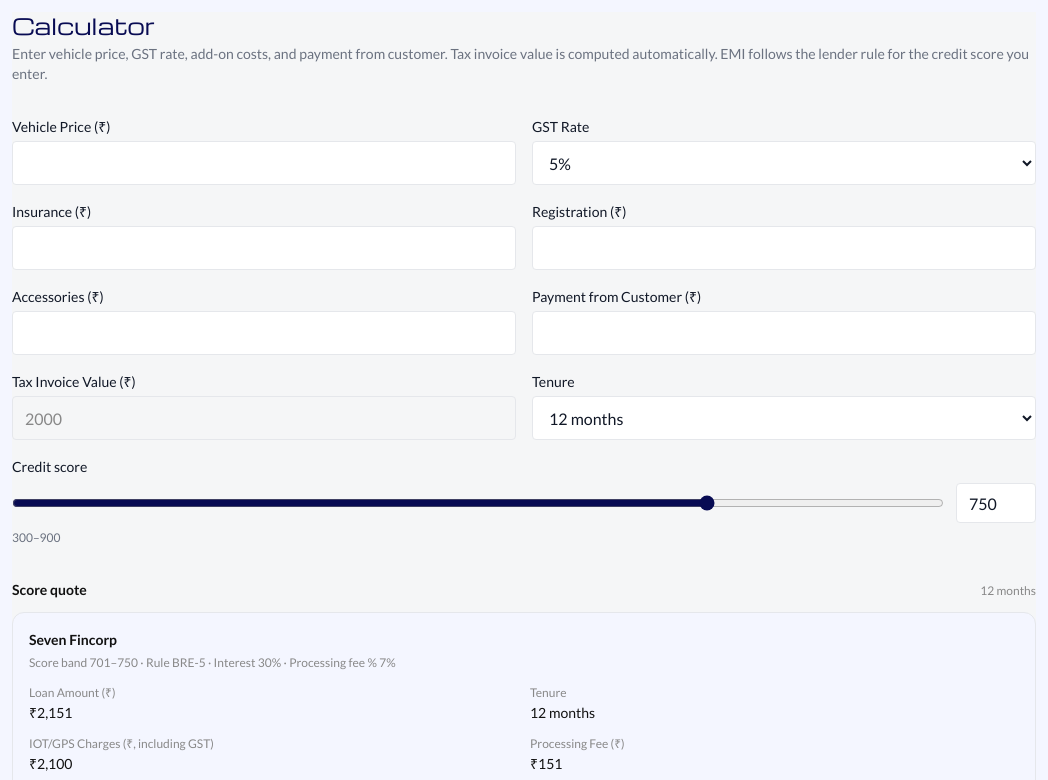
Test case: EmiRangeCalculator › warns when customer payment is below 10% of tax invoice value
Type "100000" into the field with test id "emi-range-vehicle-price".
click(264, 163); type("100000")  # box top-left (12, 141), bottom-right (516, 185)
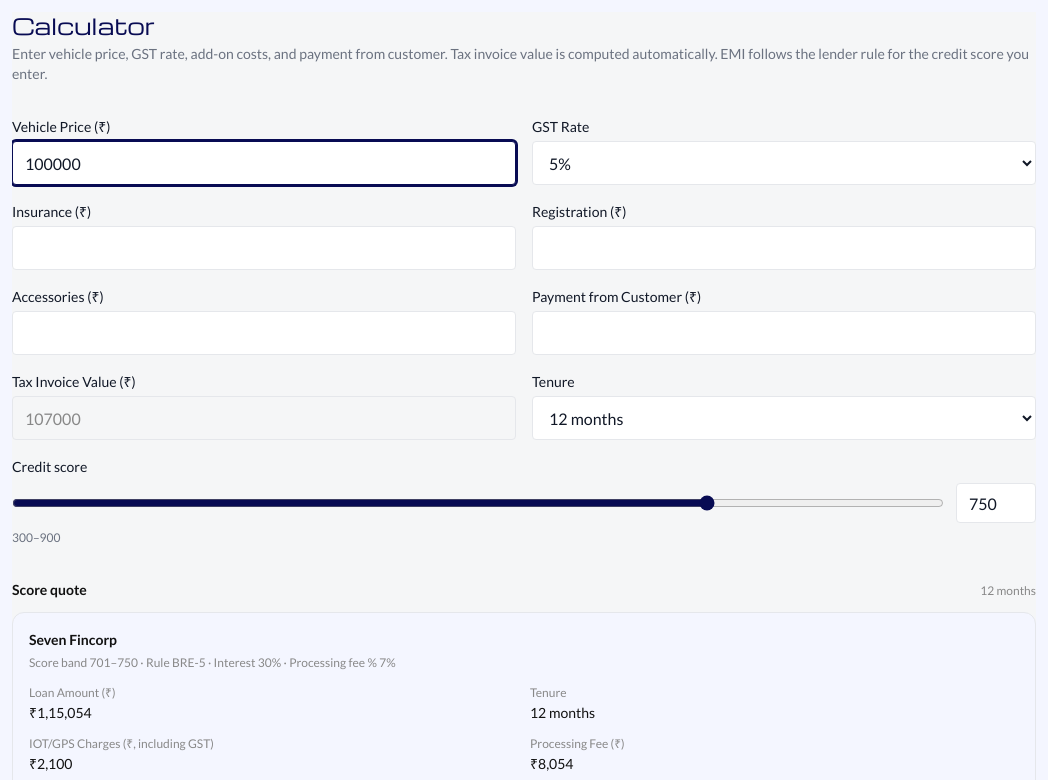
Type "5000" into the field with test id "emi-range-customer-payment".
click(784, 333); type("5000")  # box top-left (532, 311), bottom-right (1036, 355)
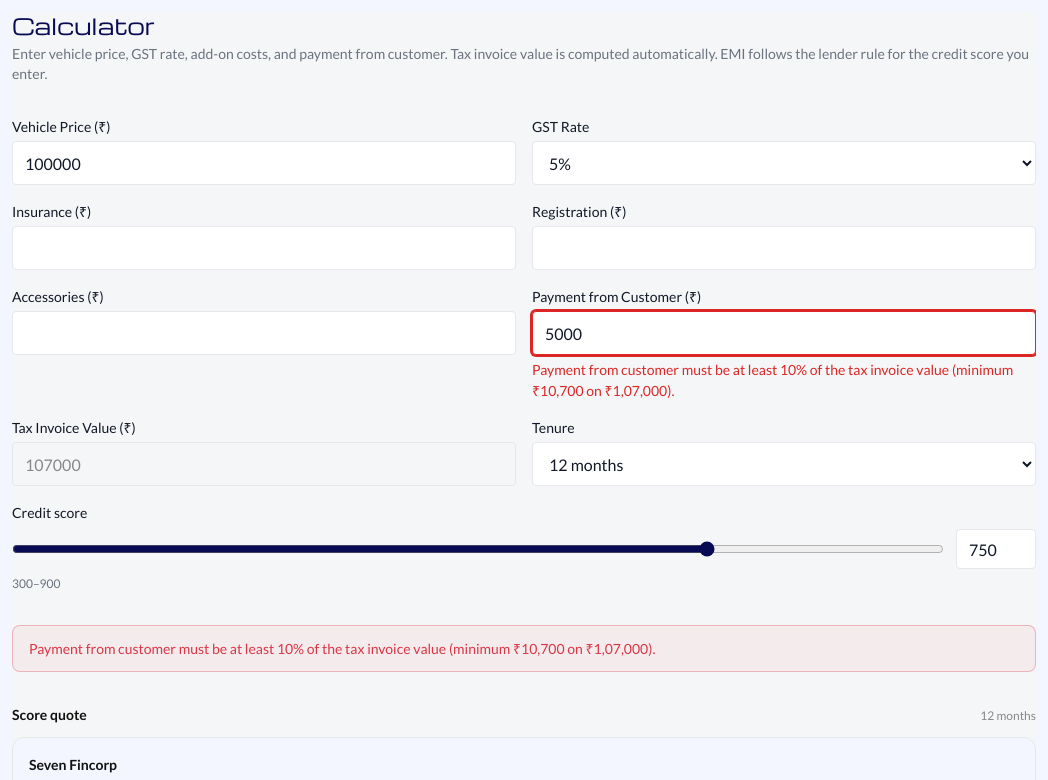
Expected: the message with test id "emi-range-customer-payment-error" is shown, top-left (12, 625), bottom-right (1036, 672)
